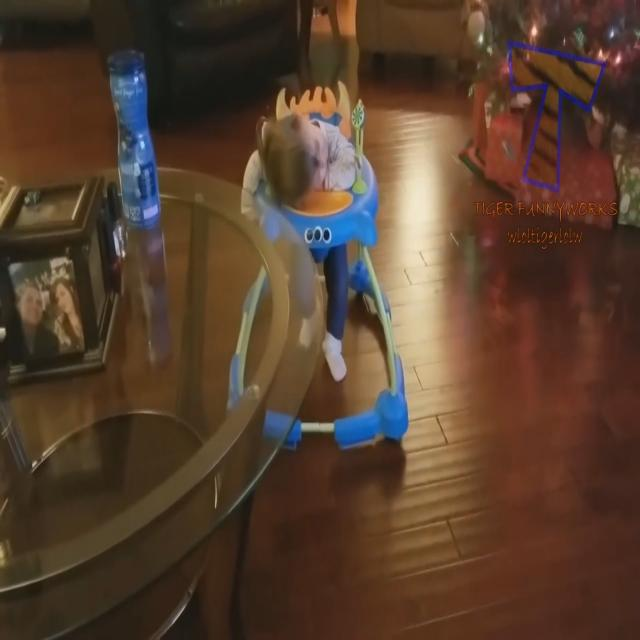safe: (248, 76, 378, 401)
